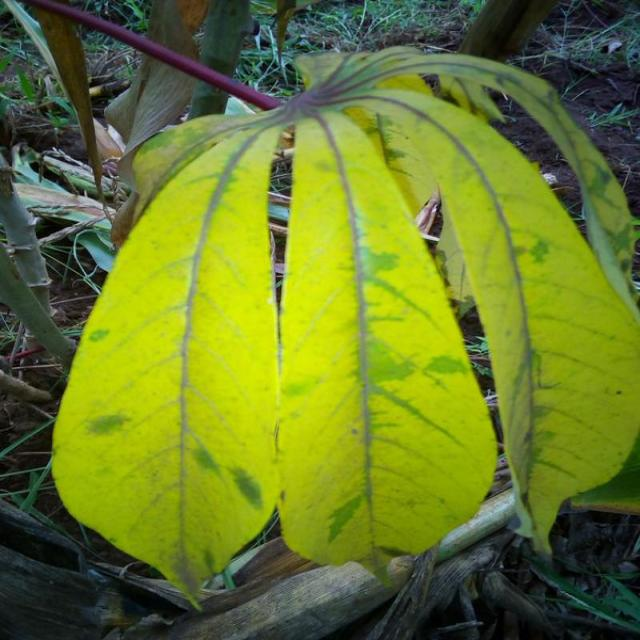Mosaico: (141, 104, 608, 516)
